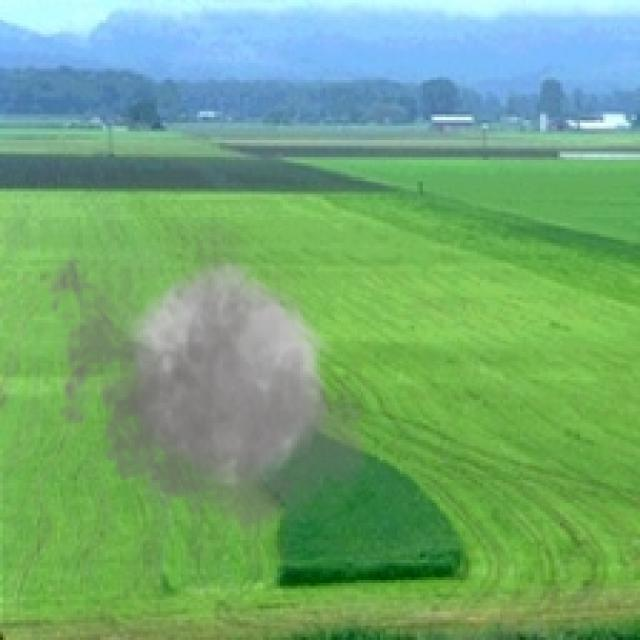smoke: (37, 197, 380, 554)
